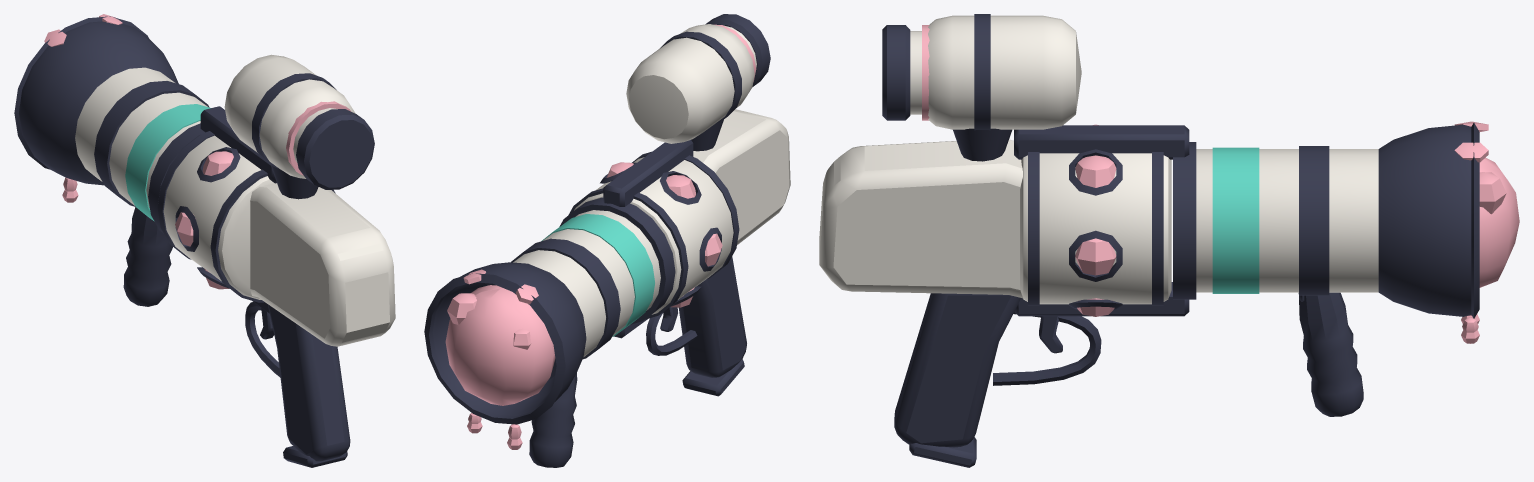
Rendered from weapon_blob_lobber_prop.glb.
3 renders of one model, left to right at view 1: azimuth 30°, elevation 25°; view 2: azimuth 150°, elevation 25°; view 3: azimuth 270°, elevation 25°, orthographic. The views are drawn at different scales.
Parts seen in each view (by area): view 1: BlobLobberMesh; view 2: BlobLobberMesh; view 3: BlobLobberMesh.
Boxes of the visible parts, left/top/right/bottom form: BlobLobberMesh: left=14, top=14, right=395, bottom=467; BlobLobberMesh: left=424, top=14, right=790, bottom=467; BlobLobberMesh: left=819, top=14, right=1519, bottom=467.
Size of the model in its own units: 0.17 by 0.4153 by 0.6002.
